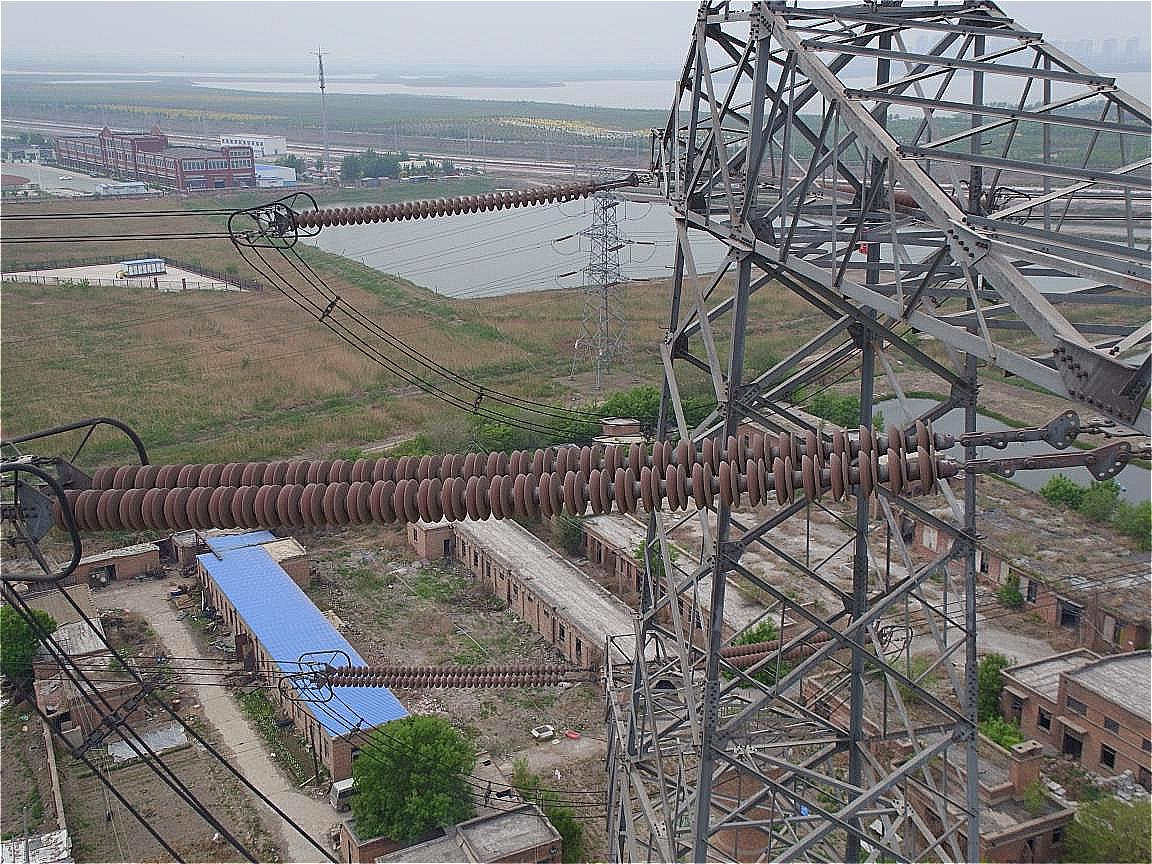insultor1: (285, 175, 617, 231), (310, 650, 580, 701)
insultor2: (53, 407, 931, 524)
